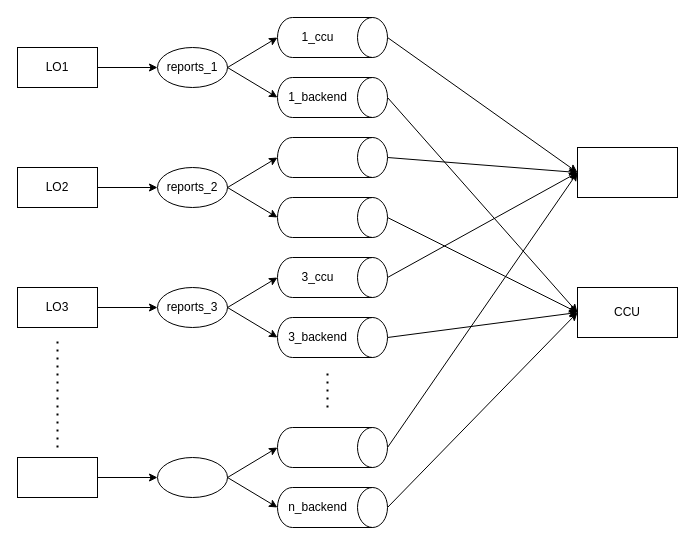
This 695x545 diagram has some shape labels left out. The centre of each missing label's shape, as x and y in pixels:
"2_backend" goes at [332,217].
"2_ccu" goes at [332,157].
"LOn" goes at [57,477].
"n_ccu" goes at [332,447].
"reports_n" goes at [192,477].
"Web BE" goes at [627,172].
